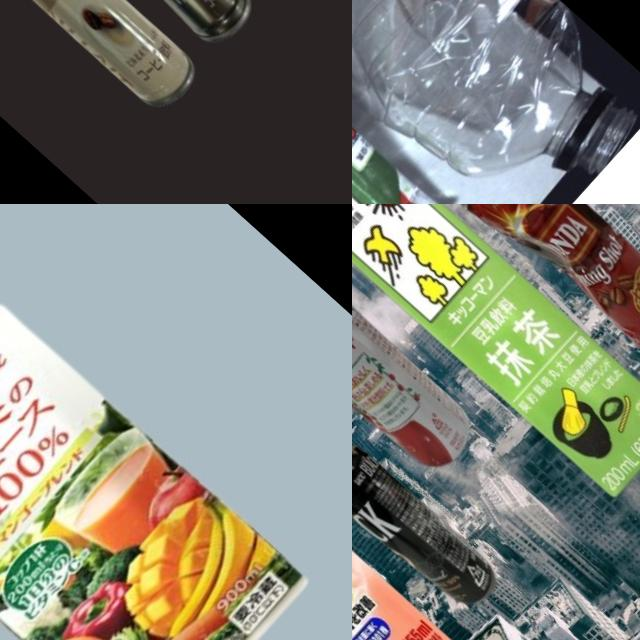Aluminium Foil: (0, 286, 315, 640), (352, 204, 640, 509), (352, 381, 466, 640), (352, 0, 465, 204)
Can: (454, 204, 640, 384), (352, 250, 489, 488), (352, 435, 503, 620), (0, 0, 210, 122), (13, 0, 265, 56)
Transparent Plastic Bottle: (352, 0, 640, 204)
